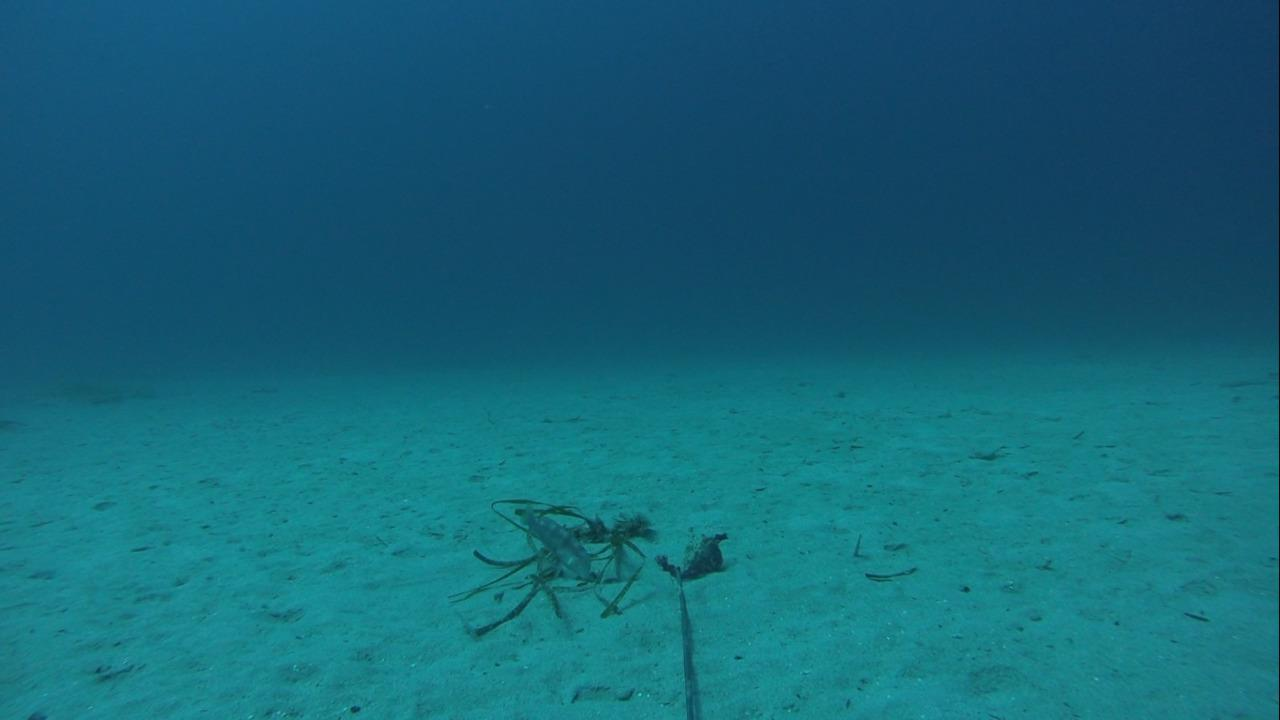raor: (510, 495, 595, 582)
